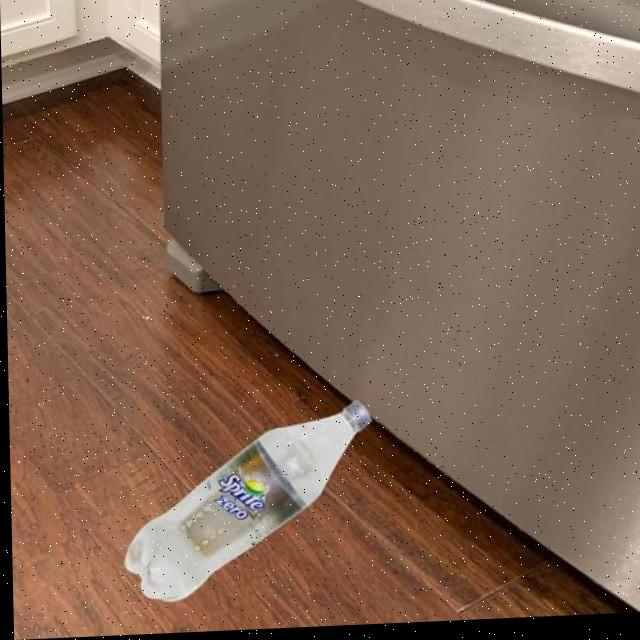bottle: (117, 400, 373, 605)
